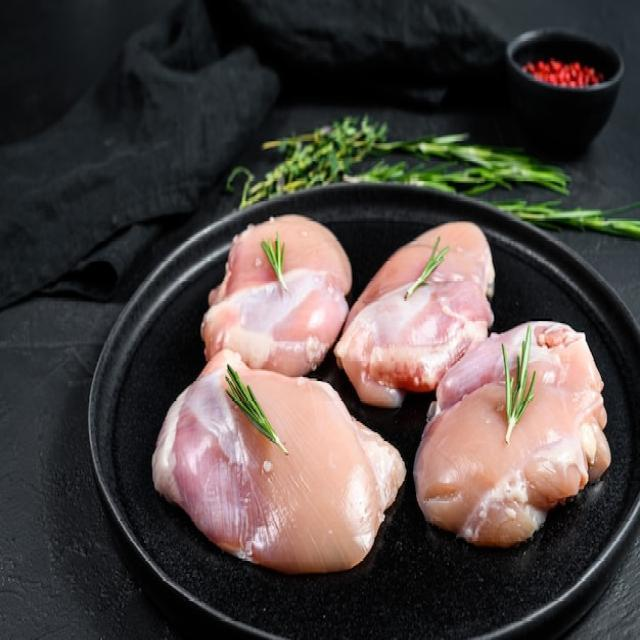thigh: (156, 347, 397, 590), (426, 327, 619, 564), (191, 191, 360, 412), (347, 199, 510, 400)
